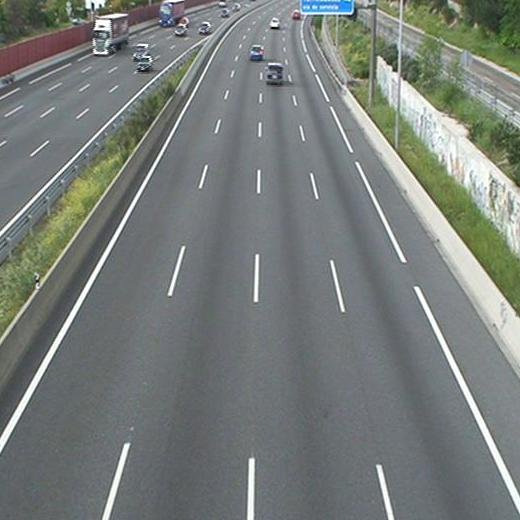car: (266, 63, 282, 83), (250, 45, 263, 59), (269, 18, 280, 28), (292, 10, 301, 19)
